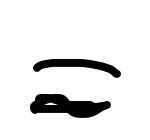eqv: (26, 55, 123, 120)
